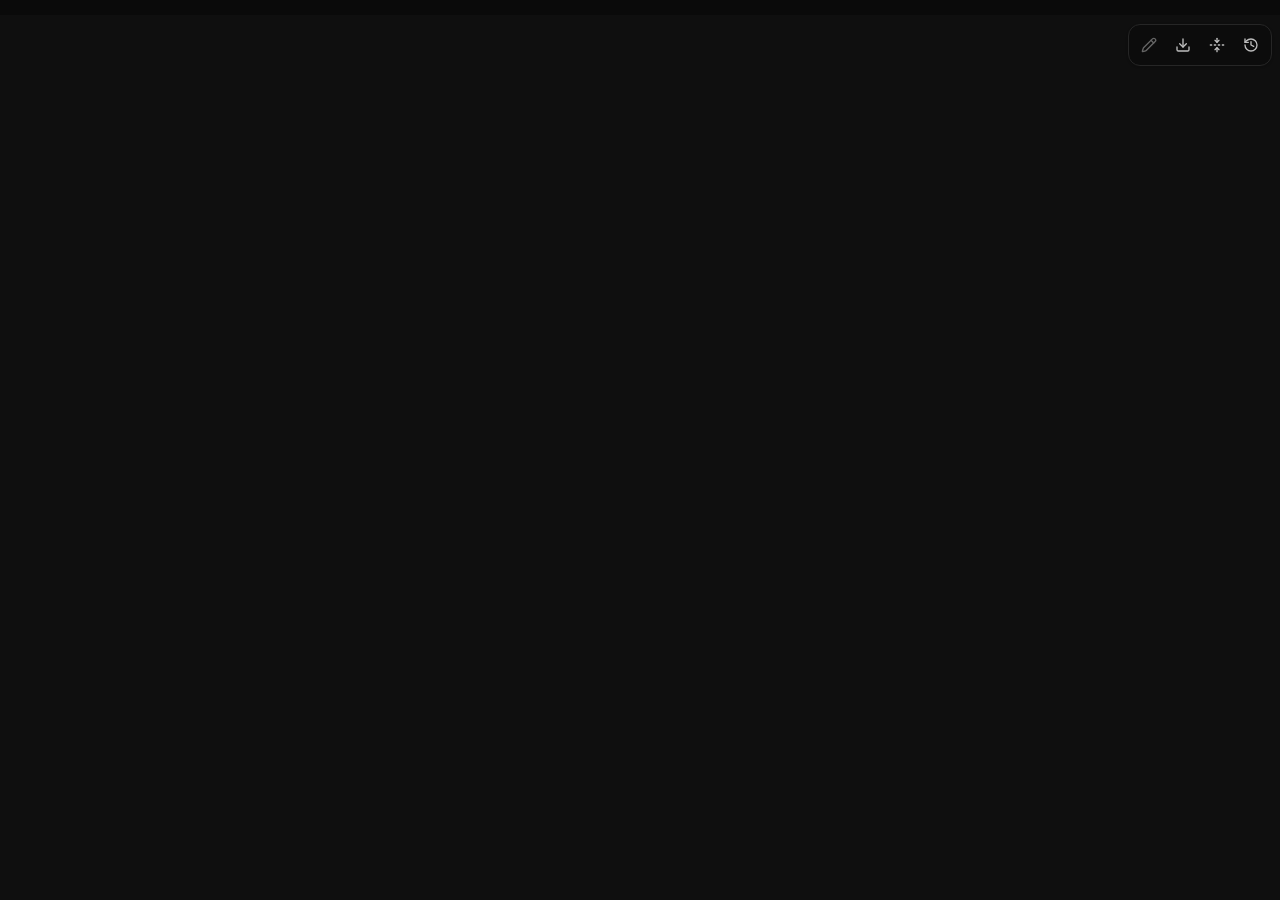
Test: Summarise earlier messages now › shows why a request was refused and stays open
Click the button named "Summarise earlier messages now" at point(1217, 45), box [1201,29,1233,61]
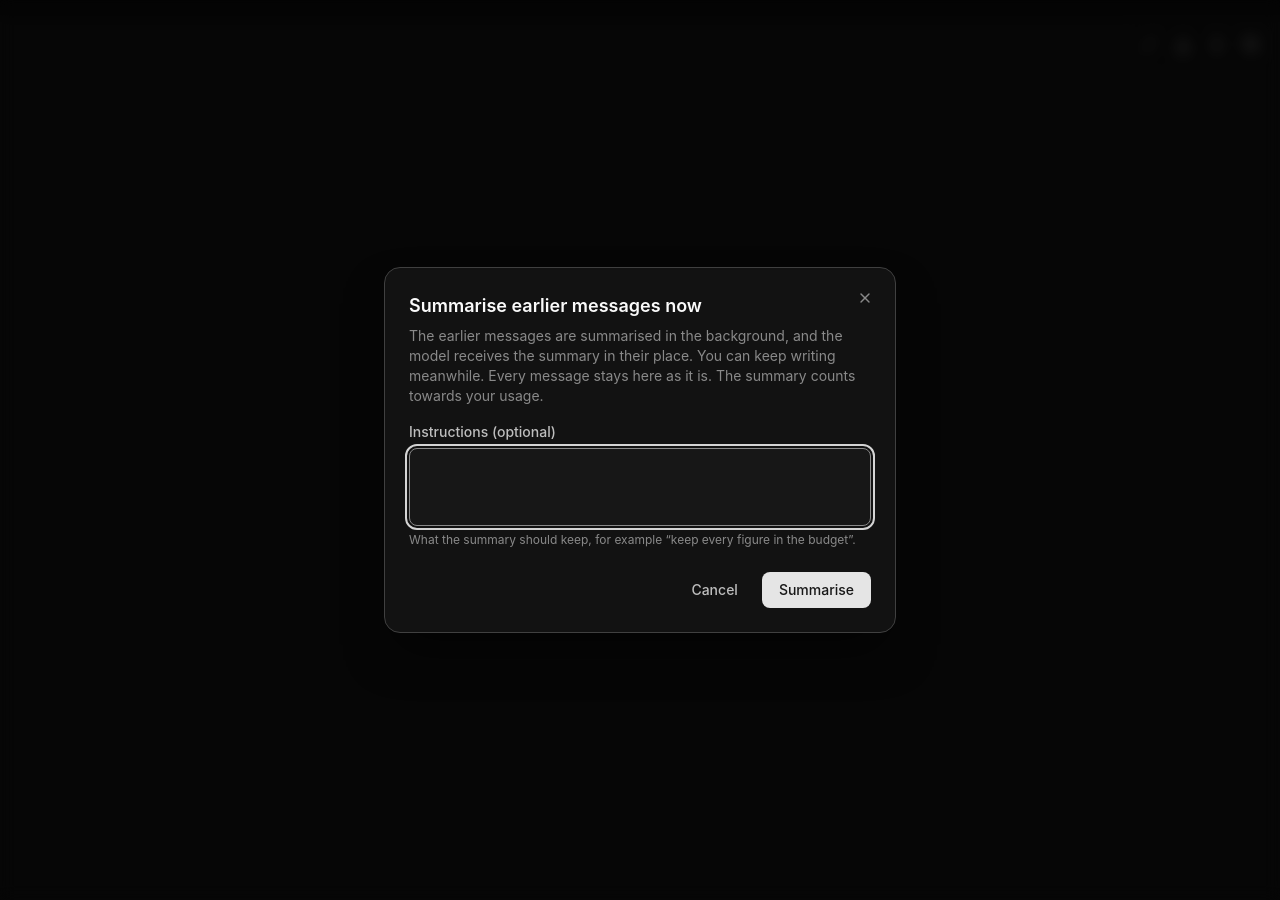
Click the button "Summarise" at point(816, 590), box [762,572,871,608]
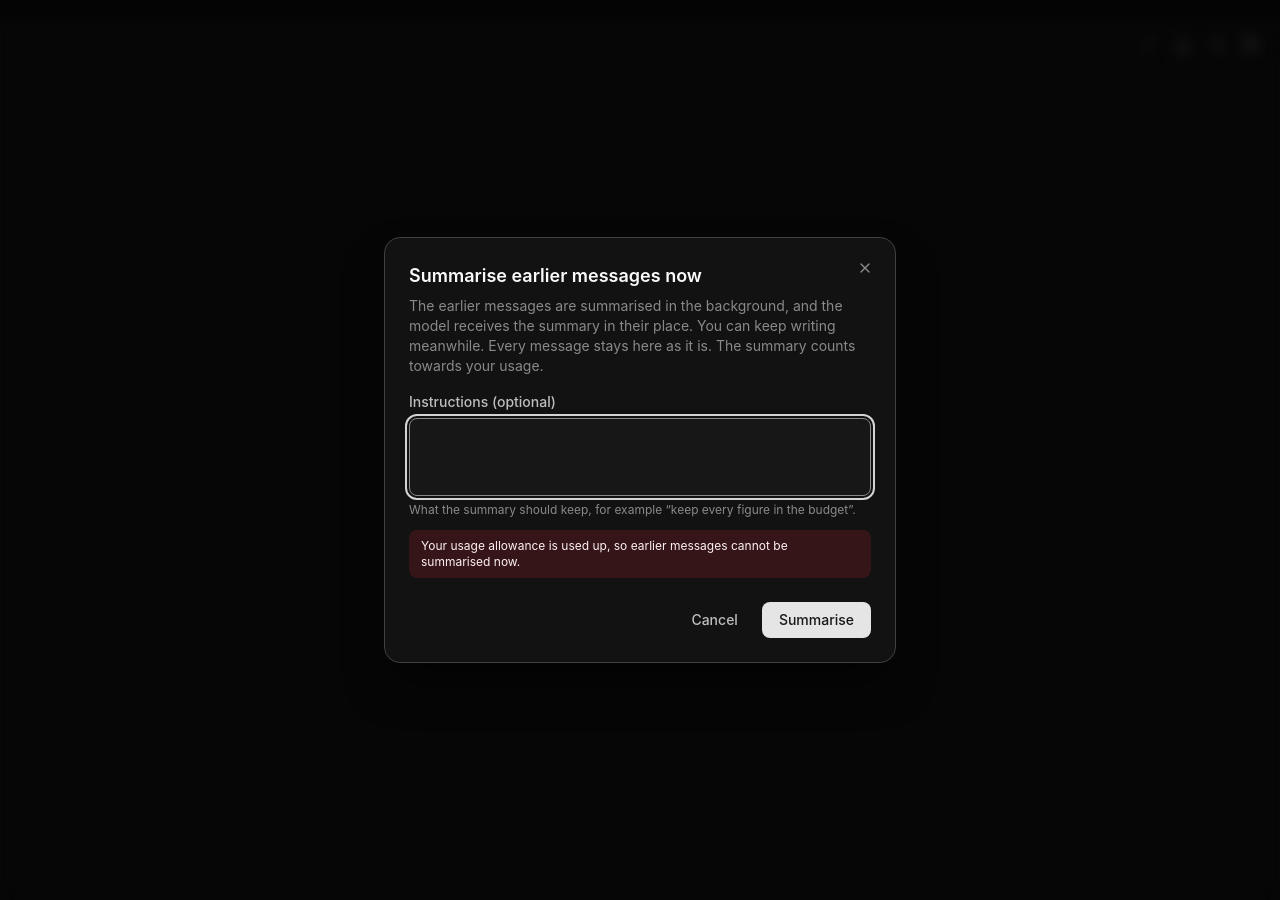
Expected: the dialog is shown, [384,237,896,663]
Click the button "Cancel" at point(715, 620), box [675,602,754,638]
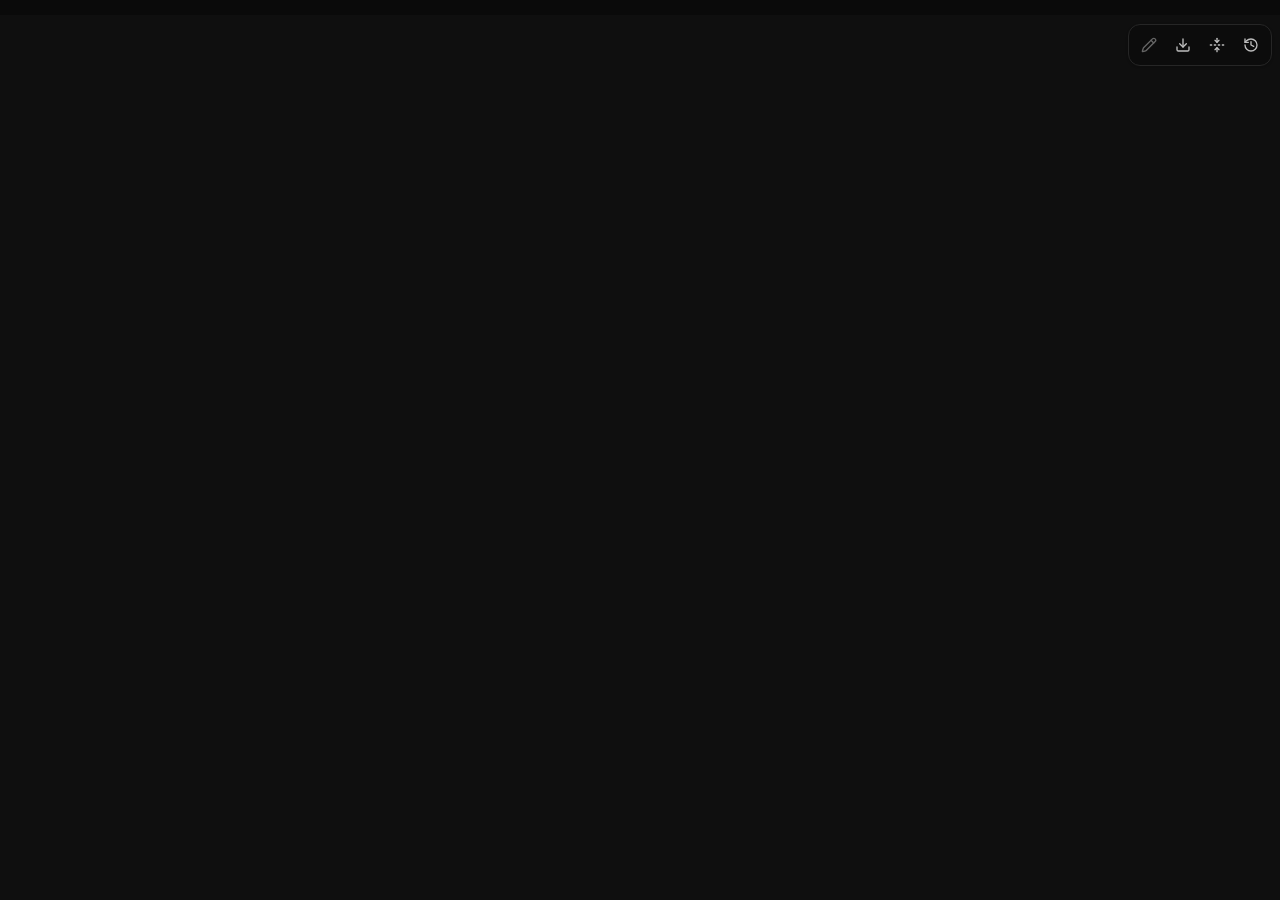
Expected: the dialog is gone
